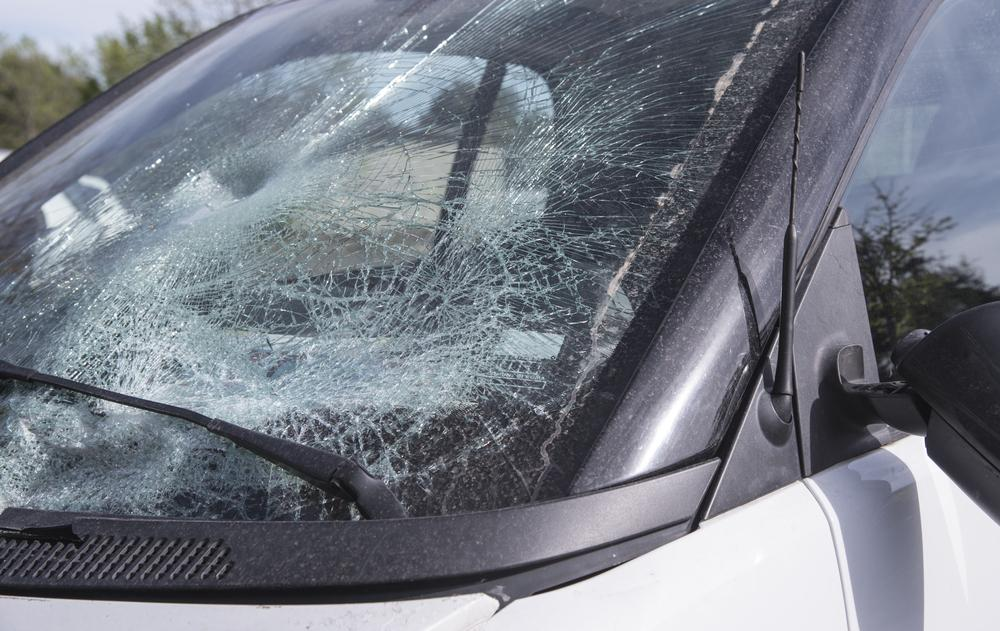glass shatter: (0, 0, 828, 518)
